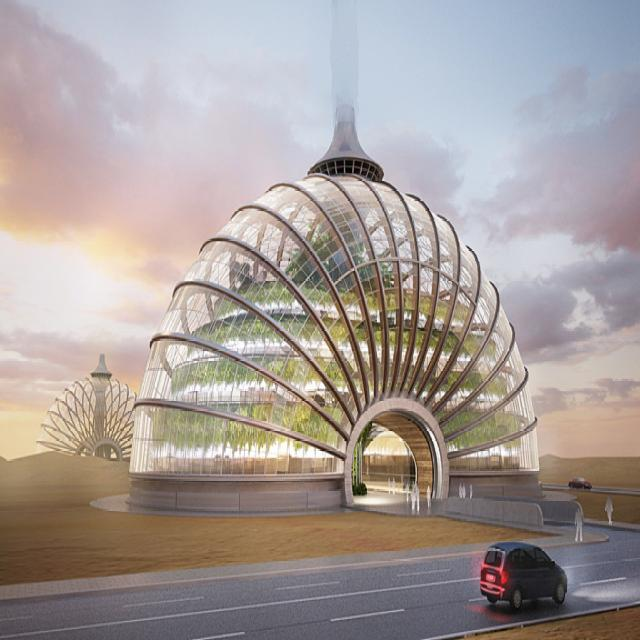car: (480, 539, 569, 605), (568, 471, 589, 495)
